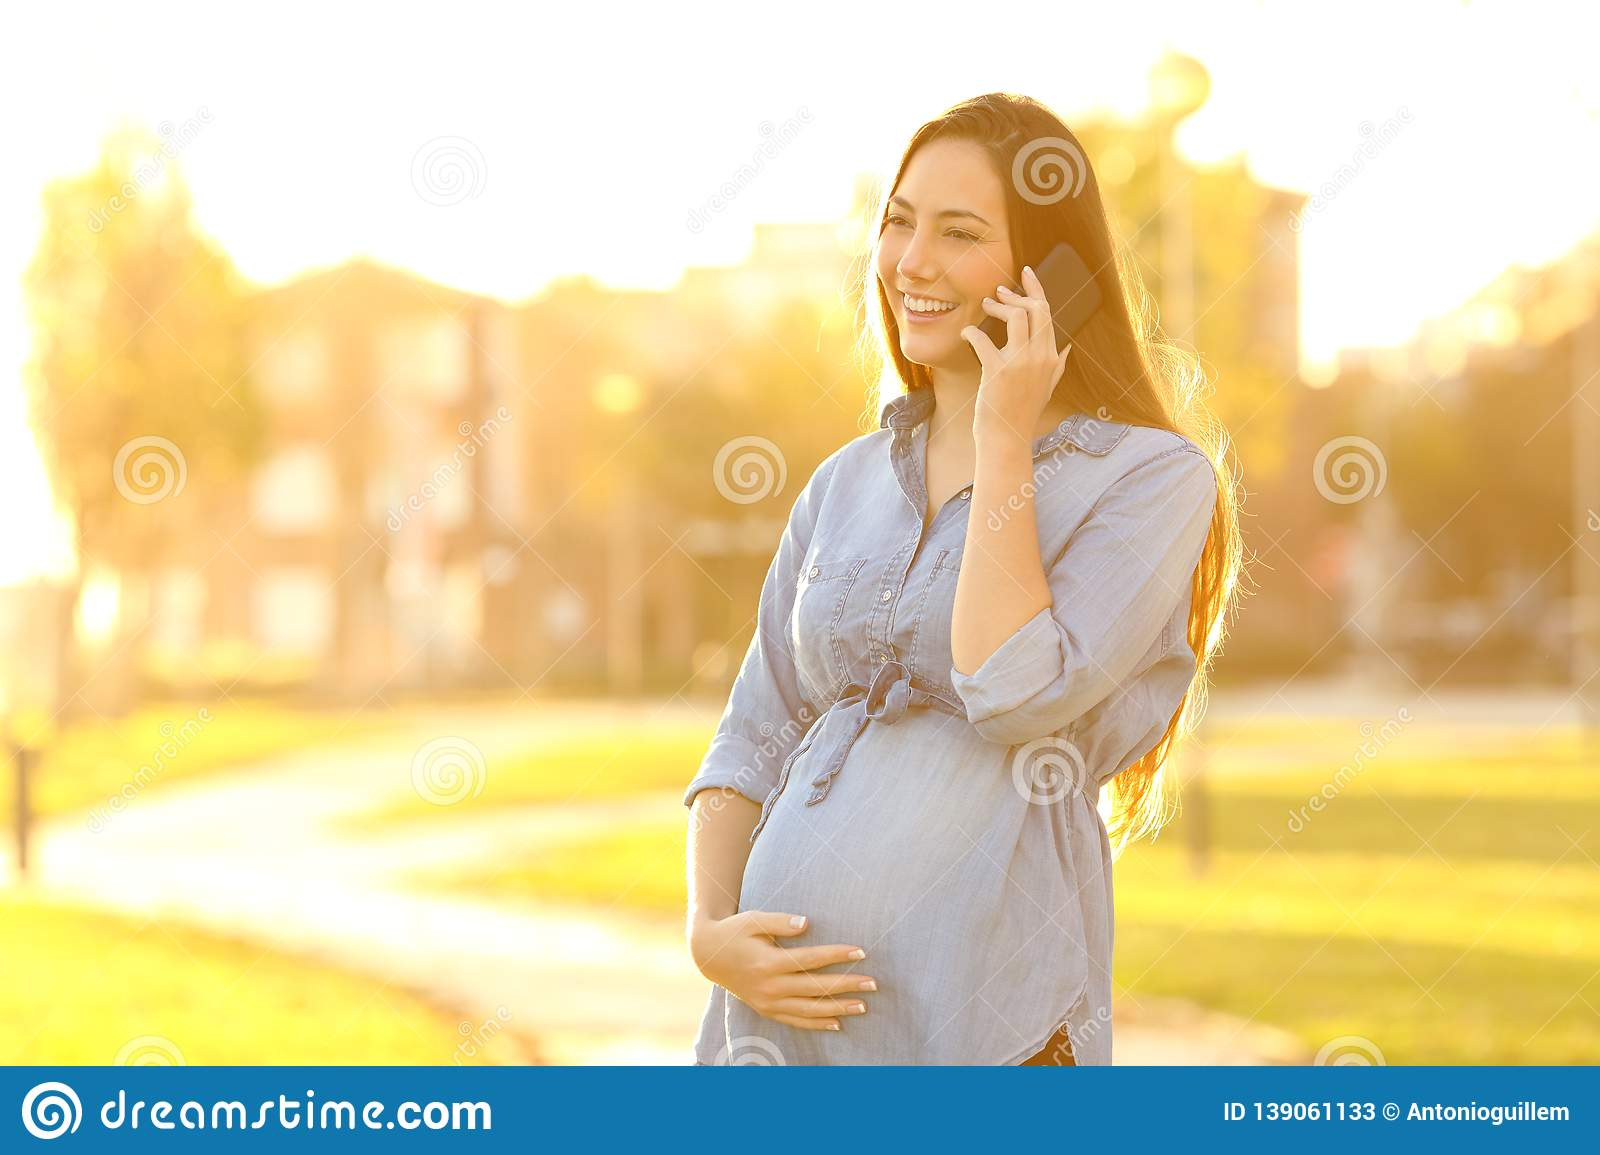phone: (969, 240, 1102, 368)
talk: (875, 191, 1101, 435)
